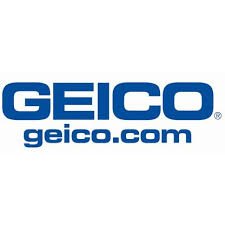Geico: (1, 80, 224, 122)
